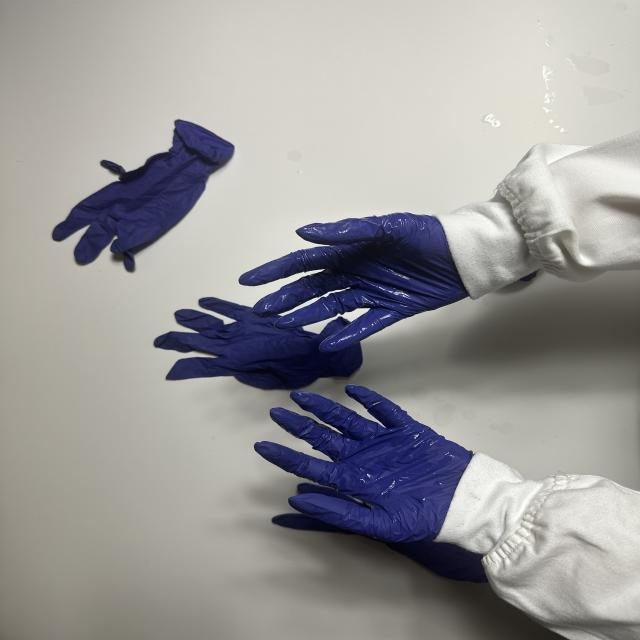gloves_contaminated: (255, 385, 472, 542), (239, 213, 470, 352)
